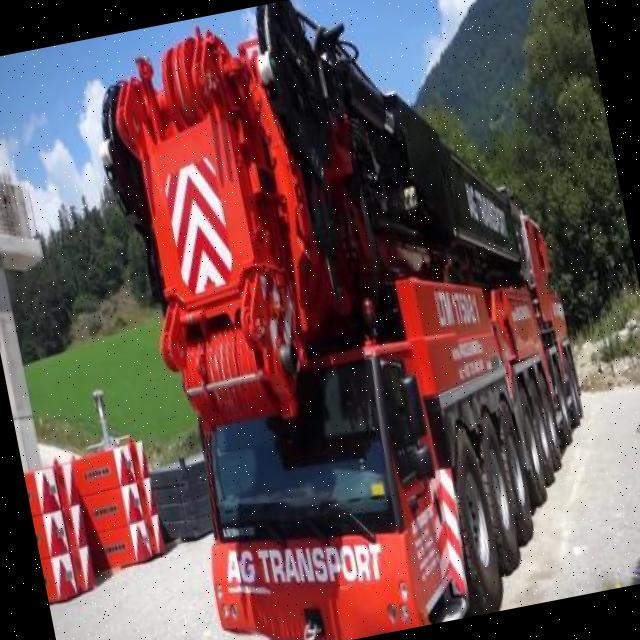Mobile Crane: (79, 0, 617, 640)
